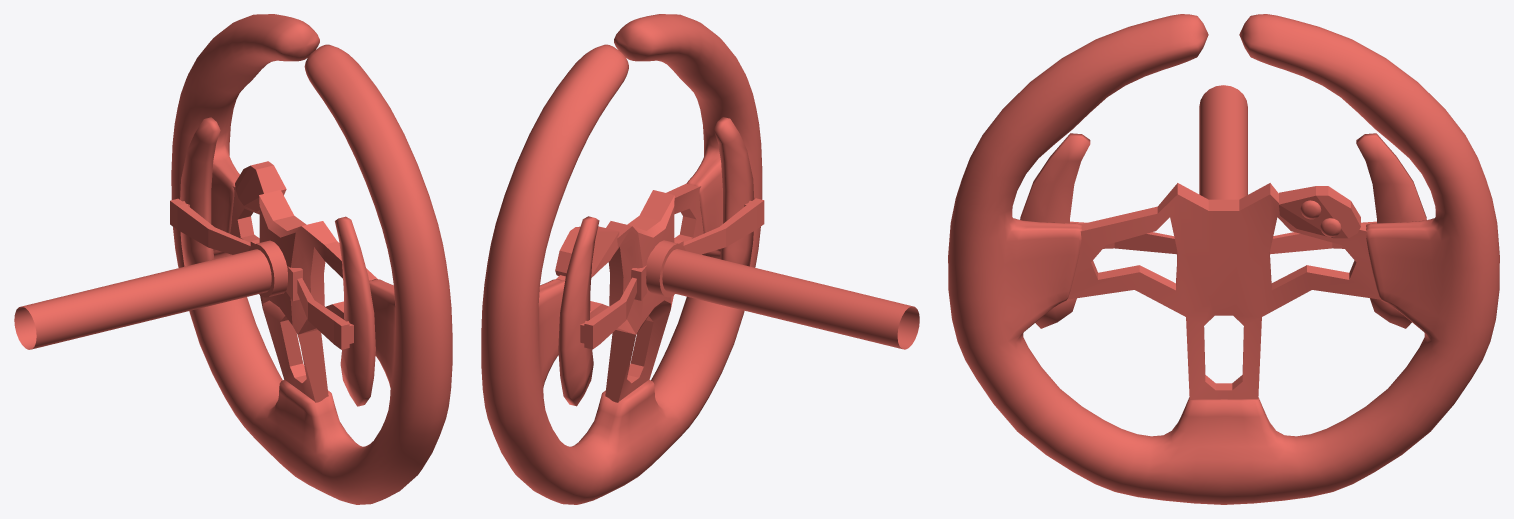
Rendered from steering wheel.fbx.
3 renders of one model, left to right at view 1: azimuth 30°, elevation 25°; view 2: azimuth 150°, elevation 25°; view 3: azimuth 270°, elevation 25°, orthographic. The views are drawn at different scales.
Parts seen in each view (by area): view 1: rim, naaf, core, flipper, flipper handle, buttons; view 2: rim, naaf, core, flipper, flipper handle, buttons; view 3: rim, core, flipper, naaf, buttons, flipper handle.
Boxes of the visible parts, left/top/right/bottom form: rim: left=171, top=14, right=452, bottom=504; naaf: left=14, top=240, right=287, bottom=349; core: left=230, top=186, right=377, bottom=402; flipper: left=180, top=117, right=375, bottom=406; flipper handle: left=170, top=198, right=353, bottom=349; buttons: left=235, top=161, right=286, bottom=211; rim: left=481, top=14, right=762, bottom=504; naaf: left=646, top=240, right=919, bottom=349; core: left=556, top=183, right=703, bottom=402; flipper: left=558, top=117, right=754, bottom=406; flipper handle: left=580, top=198, right=764, bottom=349; buttons: left=555, top=226, right=619, bottom=277; rim: left=948, top=14, right=1499, bottom=504; core: left=1067, top=183, right=1380, bottom=399; flipper: left=1020, top=133, right=1426, bottom=328; naaf: left=1199, top=85, right=1247, bottom=199; buttons: left=1279, top=186, right=1360, bottom=238; flipper handle: left=1070, top=221, right=1376, bottom=260.
Bounding box in the file's own units: 52.6 × 71.48 × 73.42.
